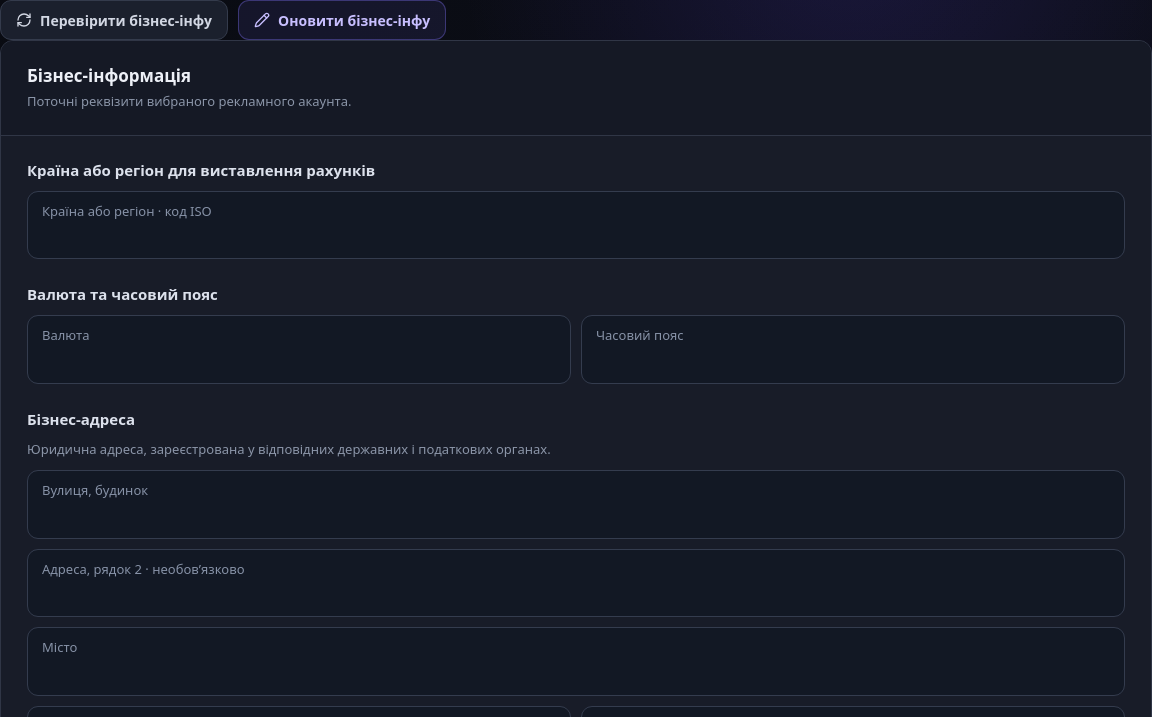
Test: Бізнес-інформація персонального акаунта › відкриває дефолтні значення без попередньої перевірки та відправляє їх після підтвердження
Expected: the field labelled "Вулиця, будинок" is empty, [42,506,1110,528]
Click the button "Оновити бізнес-інфу": click(342, 20) [238,0,446,40]
(page scrolled)
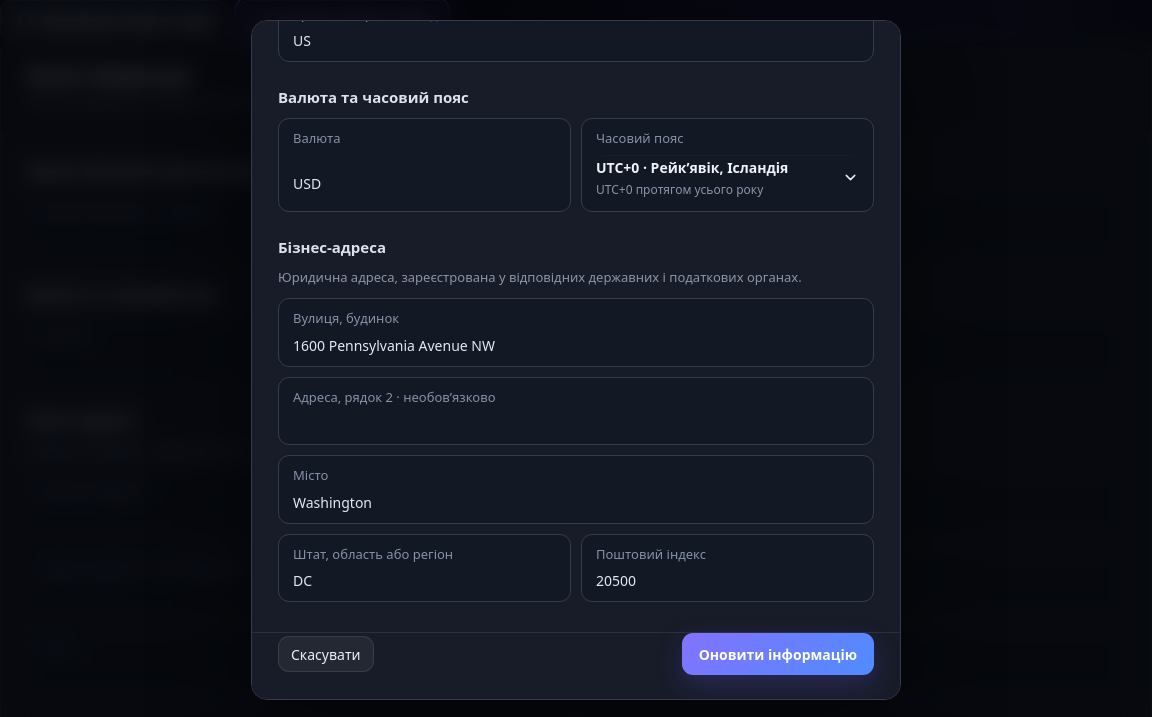
Now the field labelled "Вулиця, будинок" holds "1600 Pennsylvania Avenue NW", box [293,334,859,356]
Now the field labelled "Валюта" holds "USD", box [293,167,556,200]
Now the button with aria-label "Часовий пояс" shows "UTC+0 · Рейк’явік, Ісландія", box [596,154,859,200]
Click the button "Оновити інформацію": click(778, 654) [682,633,874,675]
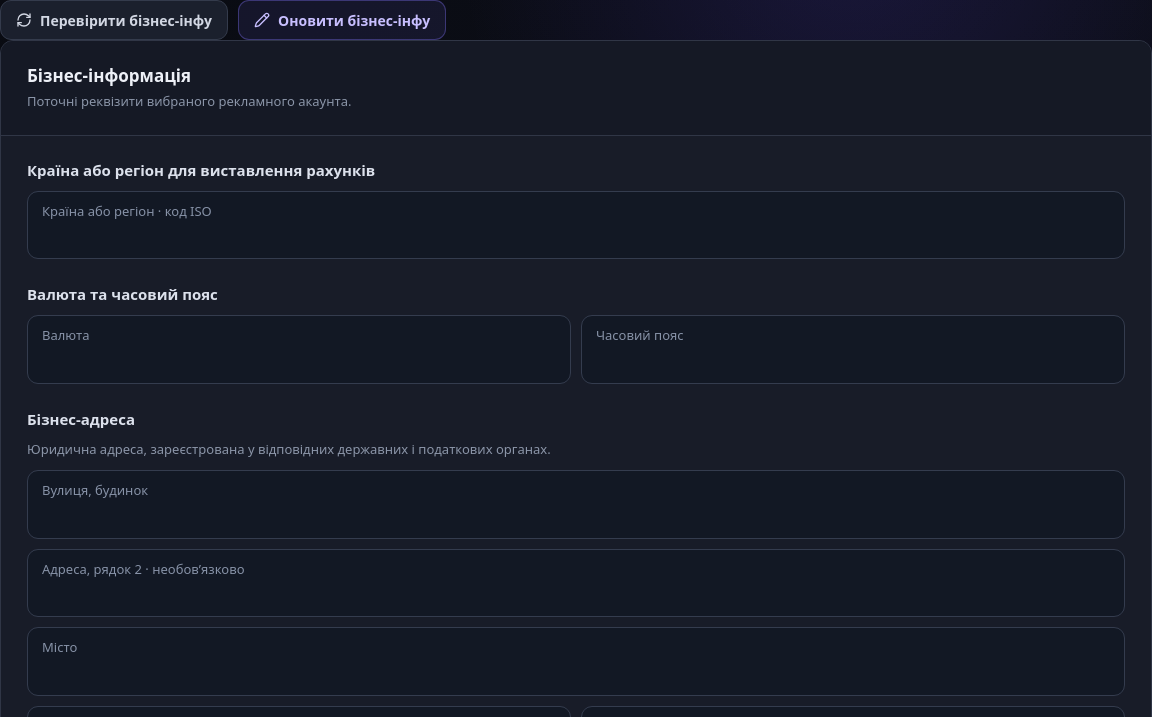
Now the dialog is gone
